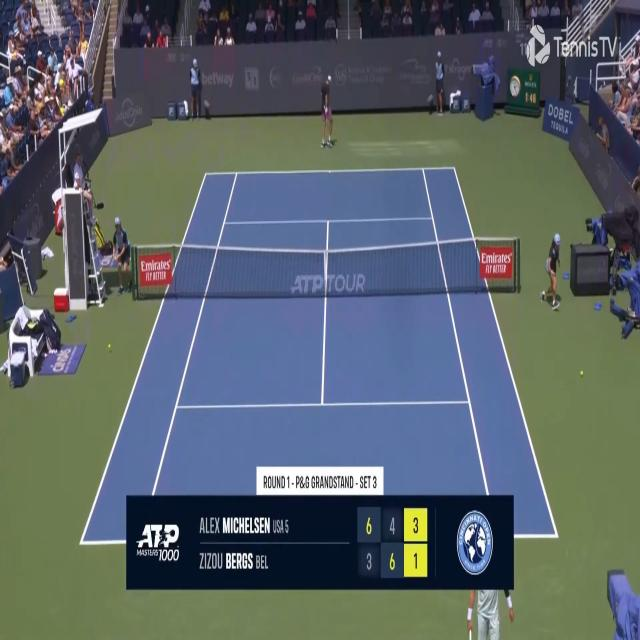tennis-player: (318, 74, 336, 149)
